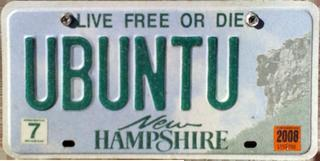placa de veiculo: (7, 7, 314, 154)
